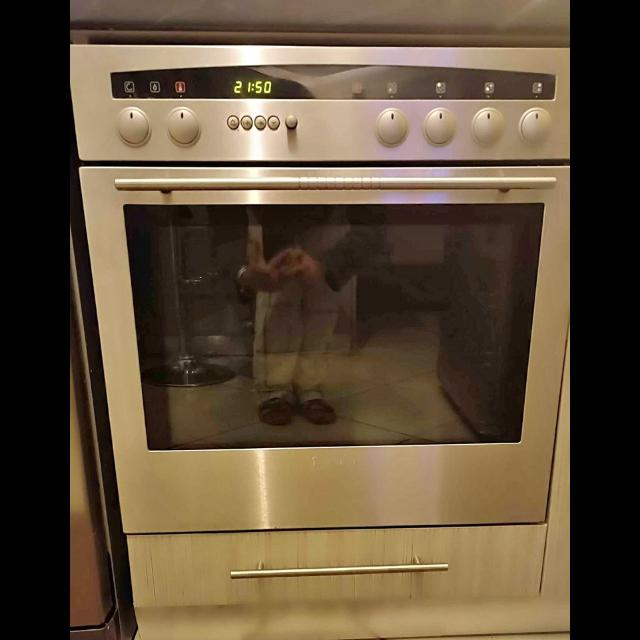Oven: (70, 32, 570, 522)
